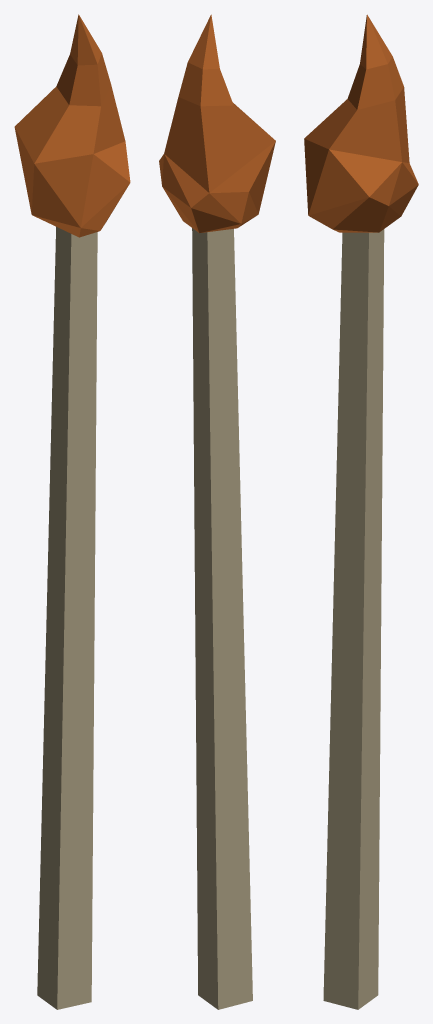
The model's file is Match Fire.glb.
3 views of the same model, side by side, from view 1: azimuth 30°, elevation 25°; view 2: azimuth 210°, elevation 25°; view 3: azimuth 330°, elevation 25° (orthographic).
Parts seen in each view (by area): view 1: Match_Fire; view 2: Match_Fire; view 3: Match_Fire.
Part boxes in pixels (x1,y1,x2,y2): Match_Fire: [14, 14, 130, 1009]; Match_Fire: [159, 14, 275, 1009]; Match_Fire: [304, 14, 418, 1009].
Size of the model in its own units: 0.0172 by 0.1713 by 0.0176.
